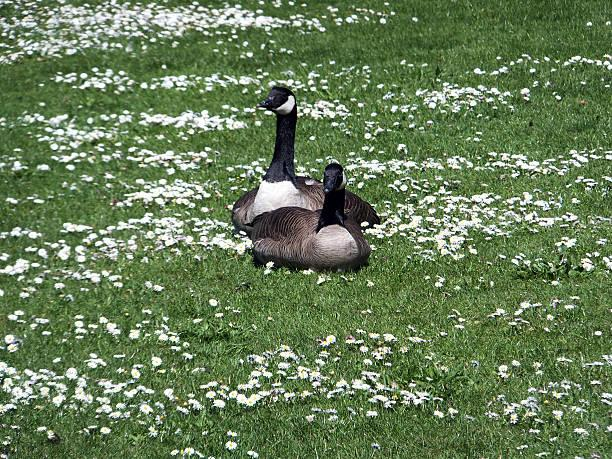Canadian-Goose: (230, 88, 368, 212), (252, 164, 372, 273)
